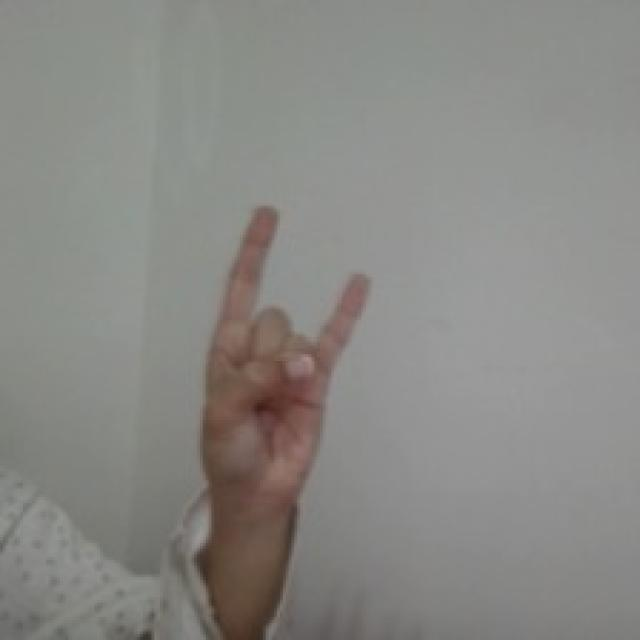No: (192, 195, 377, 510)
